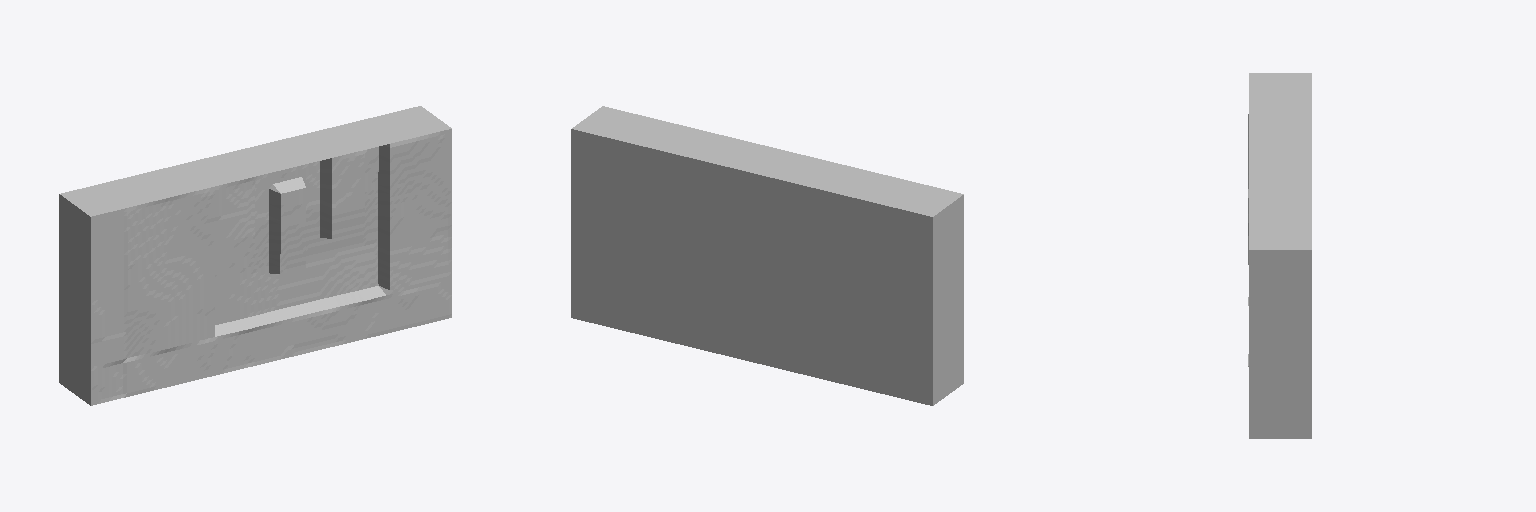
Rendered from rectangular_prism_bumps_7_8.obj.
3 renders of one model, left to right at view 1: azimuth 30°, elevation 25°; view 2: azimuth 150°, elevation 25°; view 3: azimuth 270°, elevation 25°, orthographic.
Size of the model in its own units: 10 by 5 by 1.52.